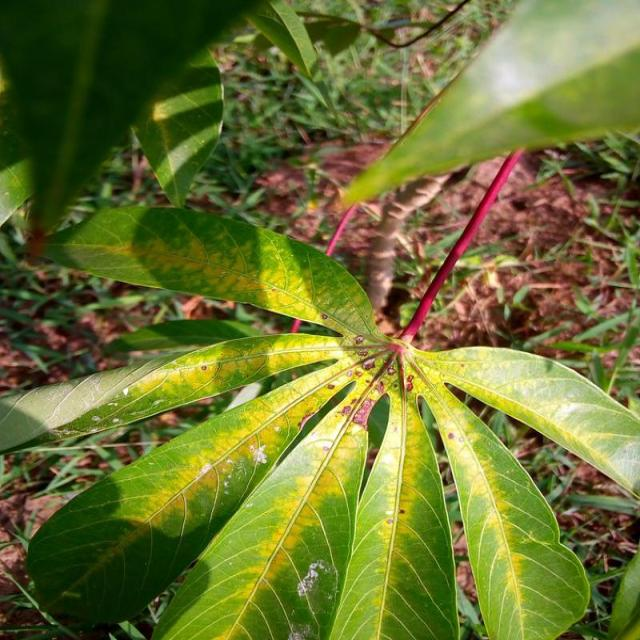cassava leaf: (24, 360, 358, 627), (336, 0, 638, 210), (33, 202, 383, 346)
